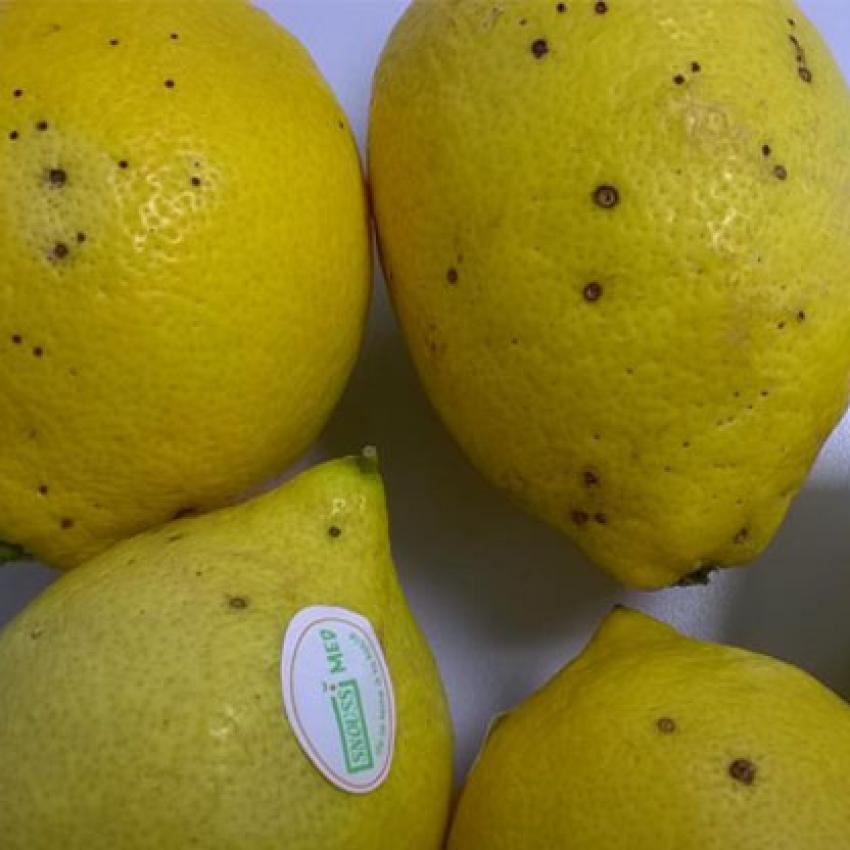Mal estado: (362, 0, 848, 596), (0, 0, 396, 577), (0, 420, 454, 843), (453, 609, 850, 848)
